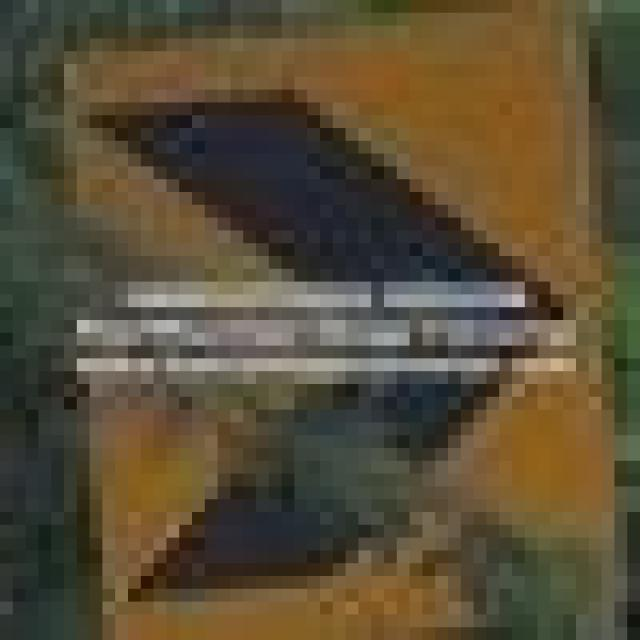DIRECTION: (39, 0, 602, 640)
